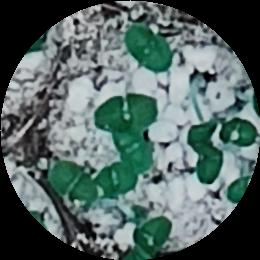Basil: (180, 125, 225, 182), (96, 95, 157, 131), (50, 161, 97, 203), (129, 28, 172, 73), (111, 127, 153, 173), (134, 216, 173, 250), (99, 165, 135, 195), (225, 117, 256, 148)
